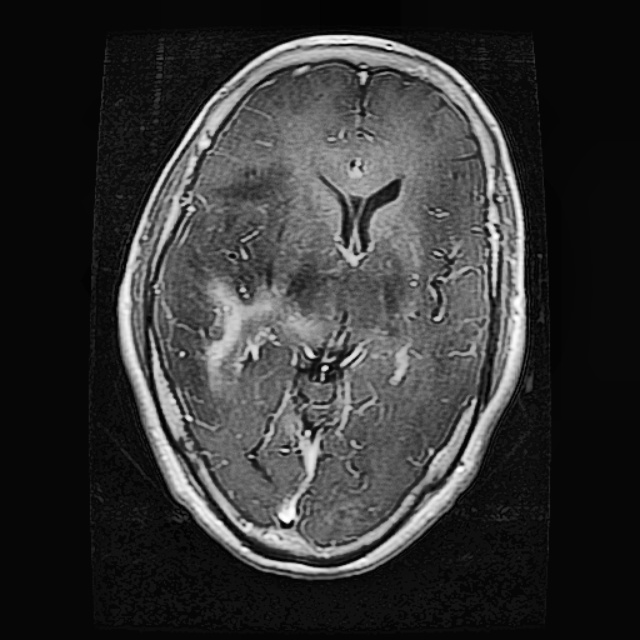Meningioma: (203, 277, 337, 393)
